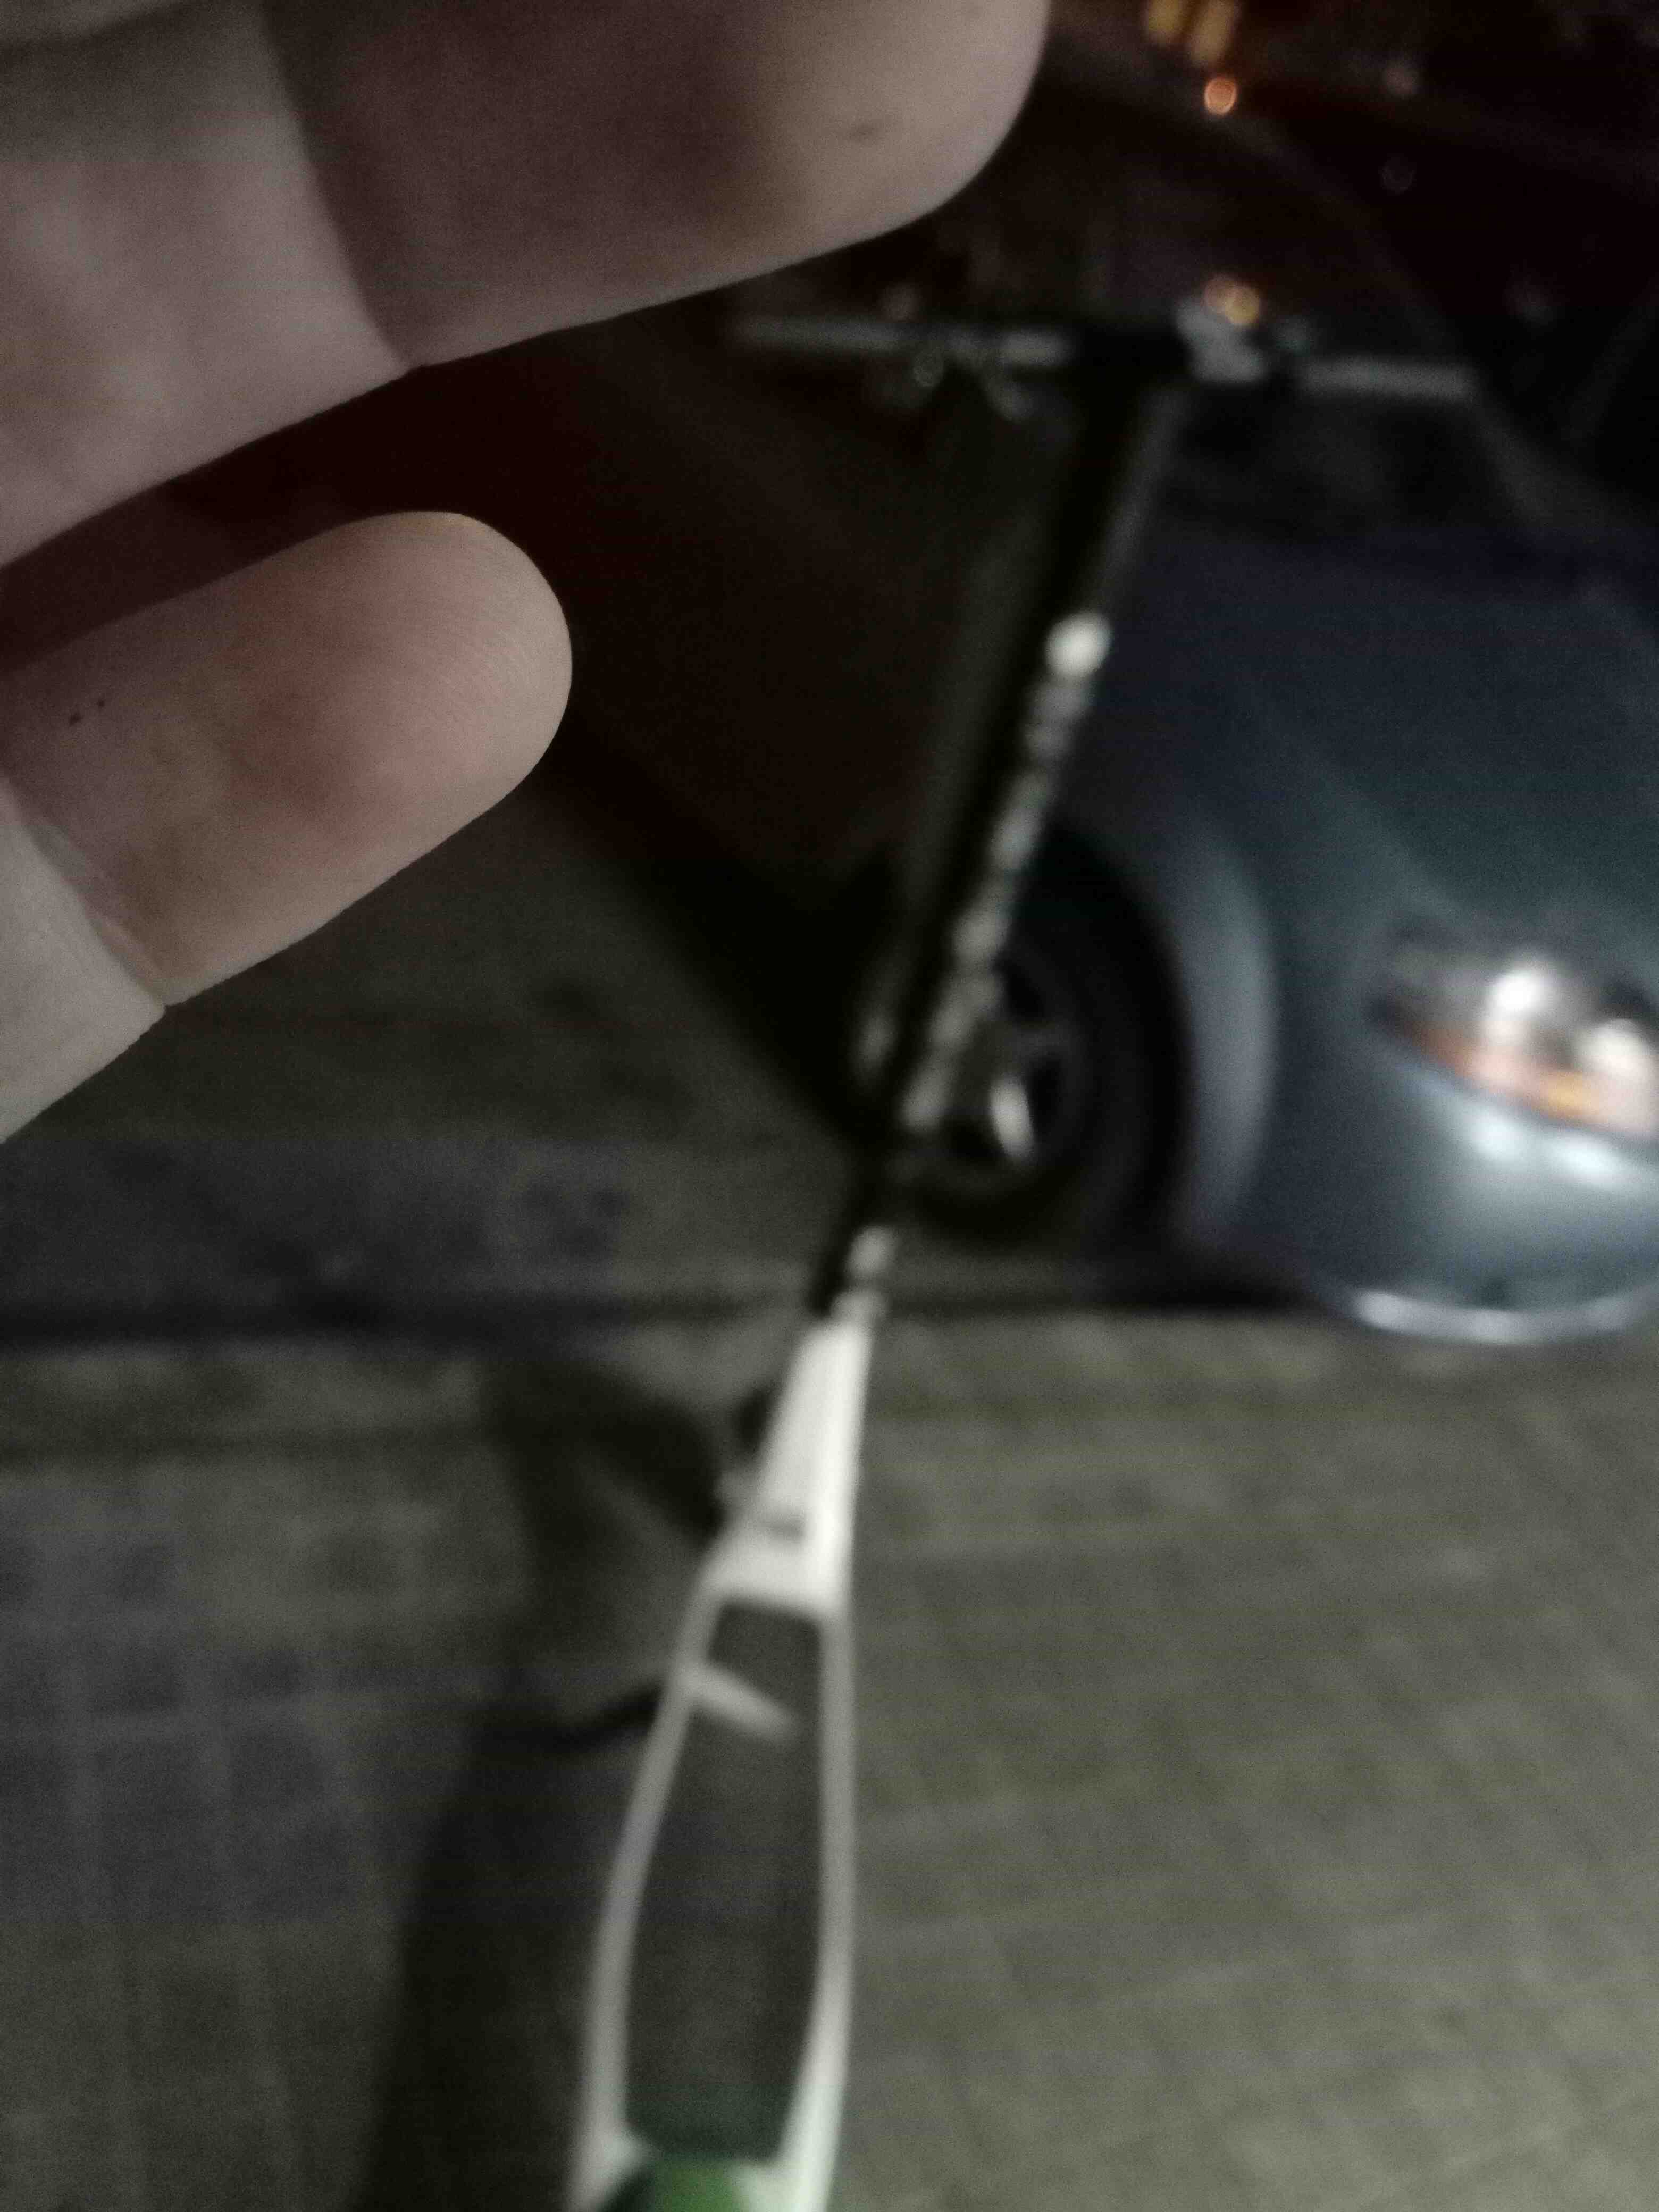scooter: (500, 265, 1568, 2212)
